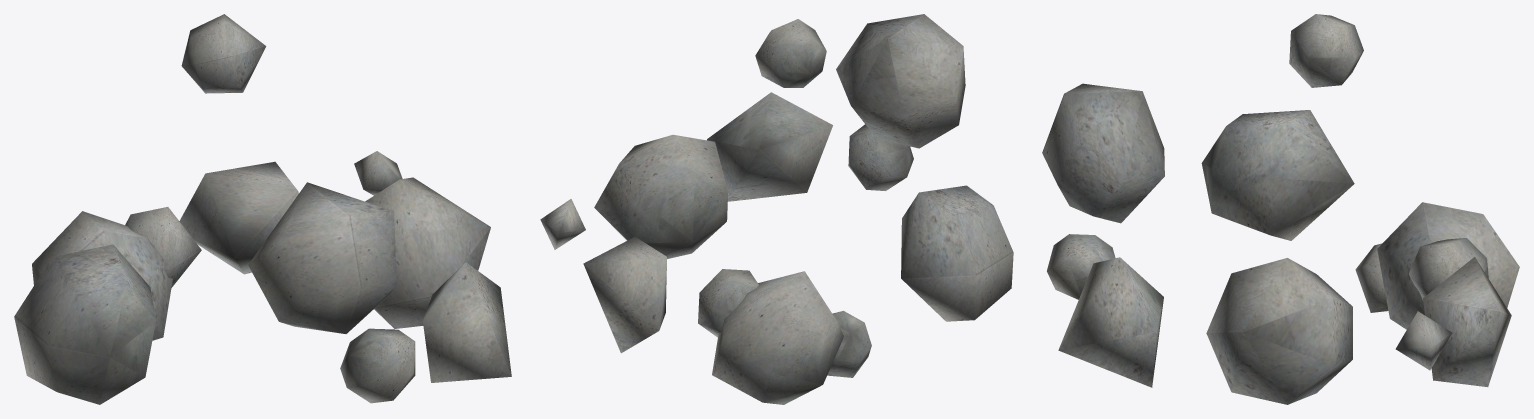
The model's file is stone_effect7.obj.
3 views of the same model, side by side, from view 1: azimuth 30°, elevation 25°; view 2: azimuth 150°, elevation 25°; view 3: azimuth 270°, elevation 25° (orthographic). The views are drawn at different scales.
Visible parts, largest first — view 1: Sphere011; view 2: Sphere011; view 3: Sphere011.
Part boxes in pixels (left/top/right/bottom): Sphere011: left=14, top=14, right=511, bottom=404; Sphere011: left=540, top=14, right=1013, bottom=404; Sphere011: left=1042, top=14, right=1519, bottom=404.
Size of the model in its own units: 158 by 126 by 156.
Materials: 1 (1 with a texture image).
